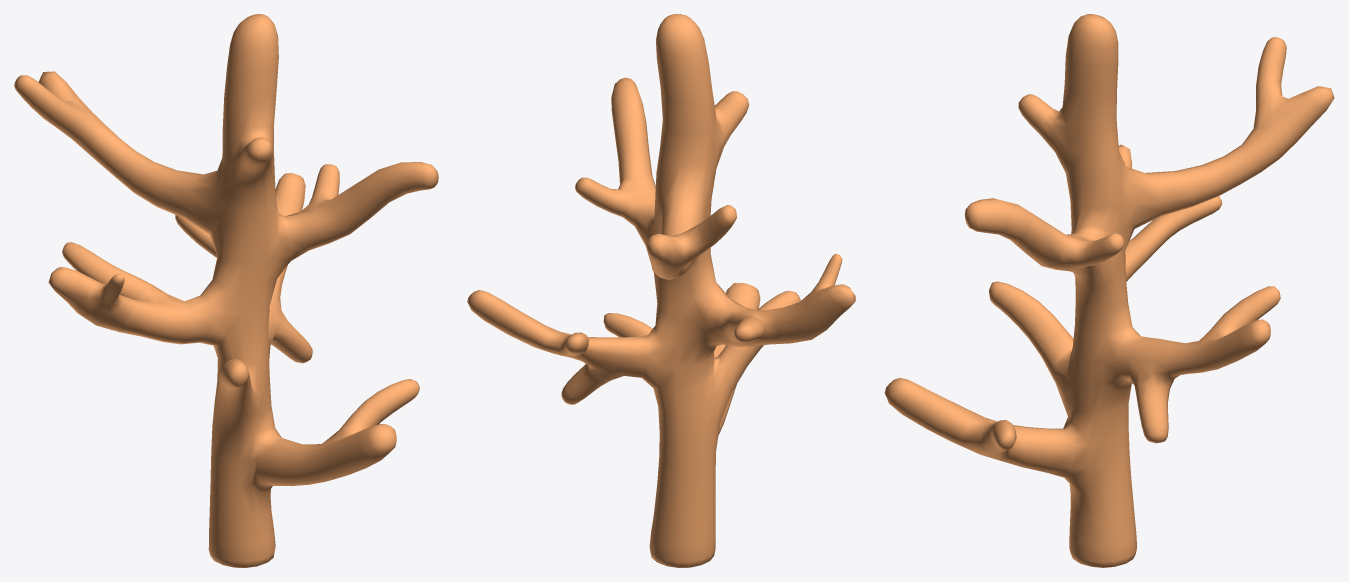
File: Coral_A_03.fbx
3 renders of one model, left to right at view 1: azimuth 30°, elevation 25°; view 2: azimuth 150°, elevation 25°; view 3: azimuth 270°, elevation 25°, orthographic. The views are drawn at different scales.
Parts seen in each view (by area): view 1: Coral_A_03_LOD0; view 2: Coral_A_03_LOD0; view 3: Coral_A_03_LOD0.
Part boxes in pixels (bbox=[...]): Coral_A_03_LOD0: bbox=[14, 14, 438, 567]; Coral_A_03_LOD0: bbox=[467, 14, 855, 567]; Coral_A_03_LOD0: bbox=[884, 14, 1334, 567].
Size of what is drawn, in the model's own units: 639 by 1025 by 767.
